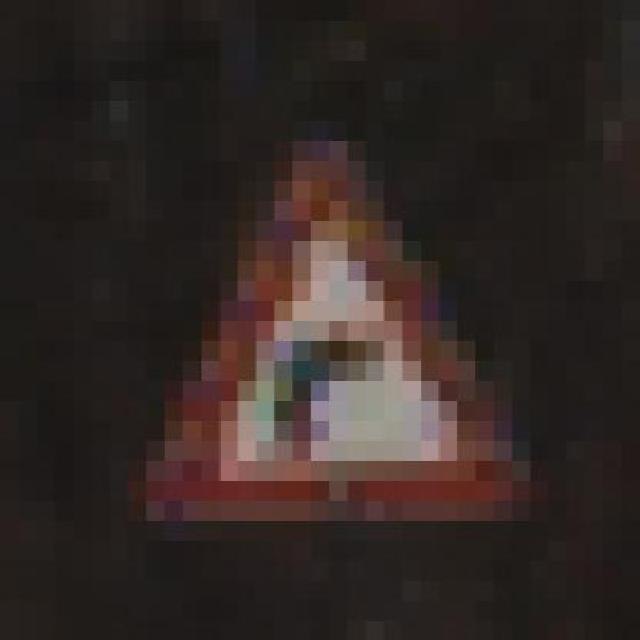Dangerous Rright Curve Ahead: (109, 140, 531, 560)
